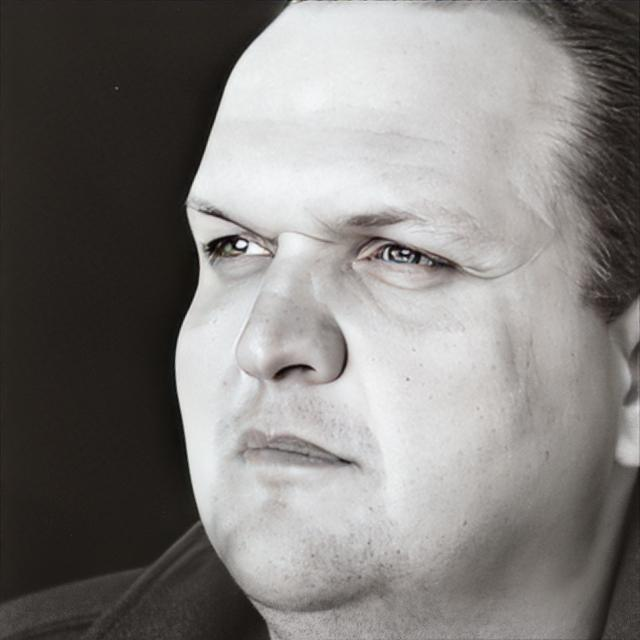disgust: (168, 4, 602, 619)
